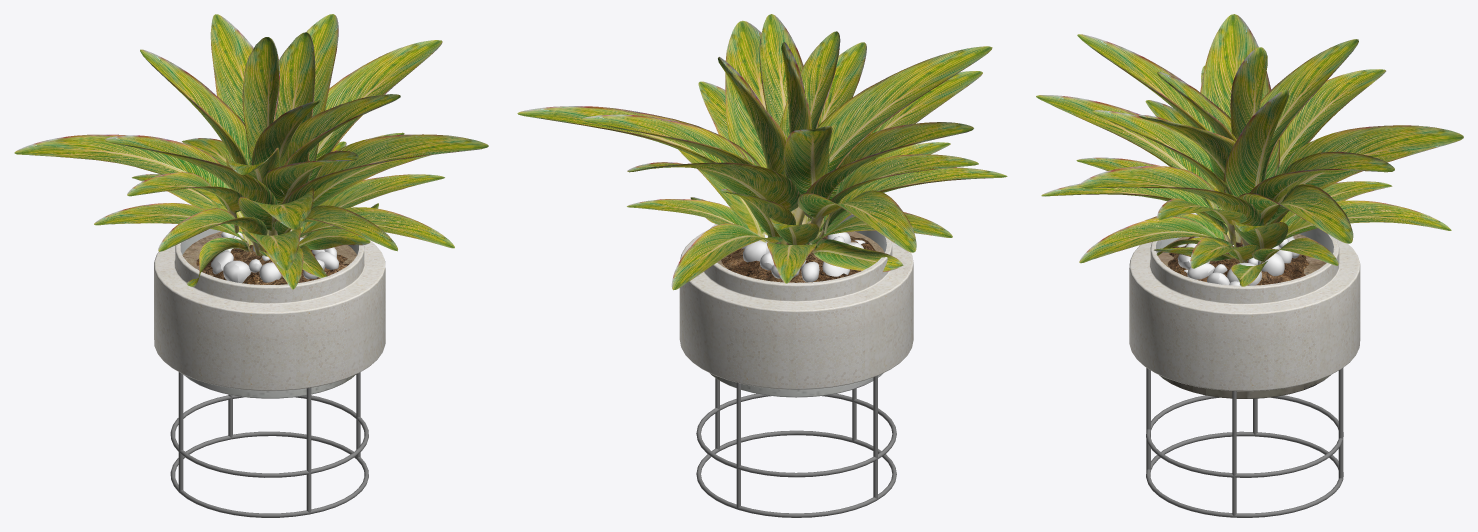
The model's file is indoor_plant.glb.
3 renders of one model, left to right at view 1: azimuth 30°, elevation 25°; view 2: azimuth 150°, elevation 25°; view 3: azimuth 270°, elevation 25°, orthographic.
Parts seen in each view (by area): view 1: Material2 (×7); view 2: Material2 (×6); view 3: Material2 (×7).
Boxes of the visible parts, x1,y1,x2,y2 form: Material2 (×7): (14,14,488,517); Material2 (×6): (517,14,1007,517); Material2 (×7): (1036,14,1463,517).
Bounding box in the file's own units: 39.23 × 39.62 × 35.55.
Materials: 8 (6 with a texture image).
